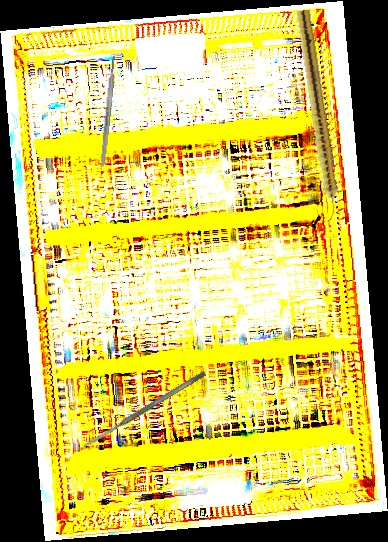Handpiece: (291, 9, 344, 223)
Scalpel Handle: (99, 55, 117, 168)
Spatula Surgical: (82, 370, 207, 449)
